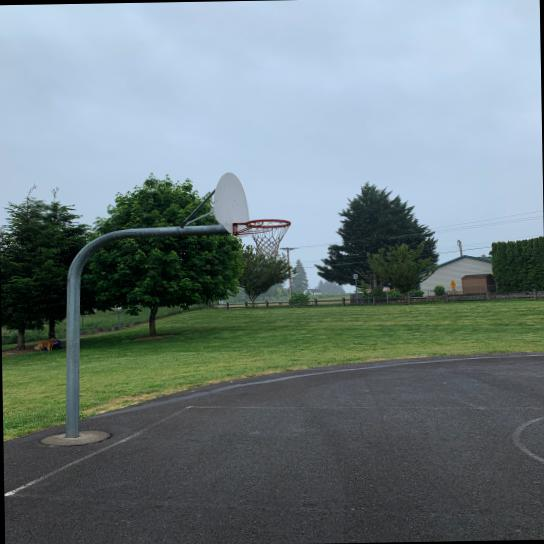basketball-hoop: (244, 218, 292, 258)
